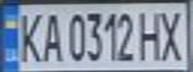0: (63, 9, 84, 62)
1: (103, 8, 121, 62)
2: (115, 8, 139, 61)
3: (84, 8, 106, 62)
A: (36, 9, 66, 63)
H: (136, 7, 166, 62)
K: (12, 9, 45, 63)
X: (157, 7, 190, 62)
